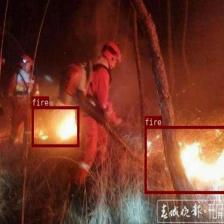fire: (144, 125, 224, 193), (31, 106, 79, 146)
